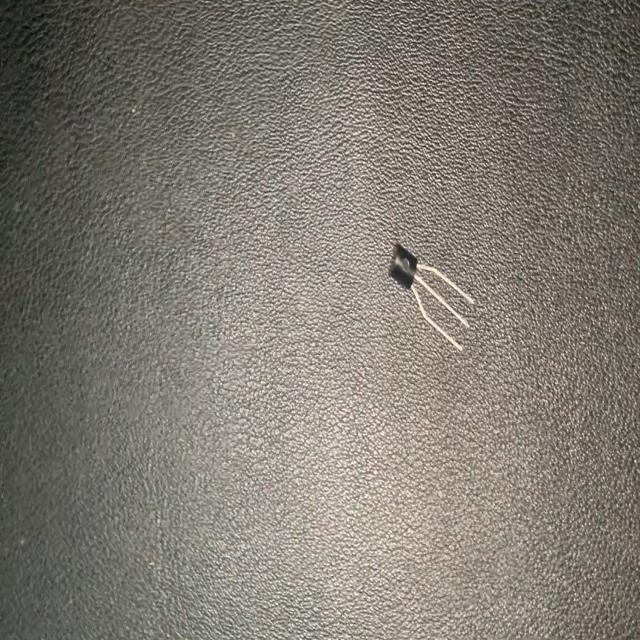BJT: (387, 238, 477, 354)
